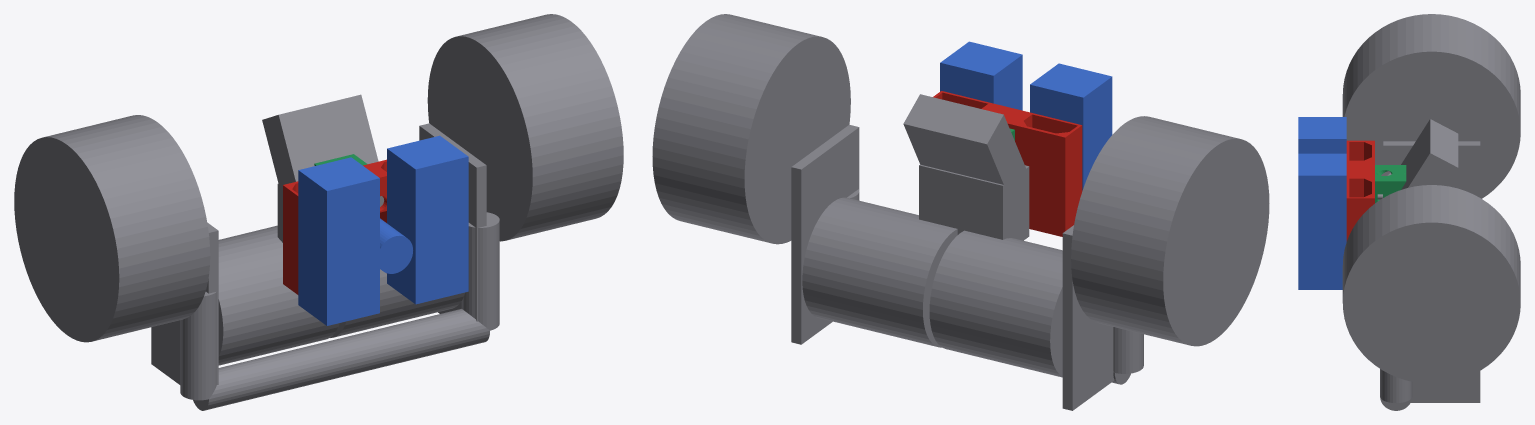
File: rear_assembly_r4.obj
3 renders of one model, left to right at view 1: azimuth 30°, elevation 25°; view 2: azimuth 150°, elevation 25°; view 3: azimuth 270°, elevation 25°, orthographic. The views are drawn at different scales.
Visible parts, largest first — view 1: wheels_schematic, bar_c_schematic, light_placeholder_1, motors_schematic, light_placeholder_0, rear_hanger_schematic, light_bar, charging_plug_column; view 2: wheels_schematic, motors_schematic, rear_hanger_schematic, light_bar, light_placeholder_1, light_placeholder_0, bar_c_schematic; view 3: wheels_schematic, light_placeholder_0, rear_hanger_schematic, light_bar, light_placeholder_1, bar_c_schematic, shoe.
Part boxes in pixels (bbox=[...]): wheels_schematic: bbox=[14, 14, 623, 342]; bar_c_schematic: bbox=[180, 212, 499, 410]; light_placeholder_1: bbox=[298, 157, 379, 325]; motors_schematic: bbox=[218, 225, 465, 365]; light_placeholder_0: bbox=[387, 135, 468, 304]; rear_hanger_schematic: bbox=[151, 94, 486, 384]; light_bar: bbox=[283, 159, 386, 294]; charging_plug_column: bbox=[380, 218, 412, 273]; wheels_schematic: bbox=[652, 14, 1269, 346]; motors_schematic: bbox=[802, 197, 1062, 377]; rear_hanger_schematic: bbox=[791, 94, 1114, 410]; light_bar: bbox=[933, 91, 1082, 236]; light_placeholder_1: bbox=[1030, 63, 1112, 190]; light_placeholder_0: bbox=[940, 41, 1022, 110]; bar_c_schematic: bbox=[847, 189, 1143, 384]; wheels_schematic: bbox=[1342, 14, 1520, 383]; light_placeholder_0: bbox=[1298, 153, 1346, 289]; rear_hanger_schematic: bbox=[1383, 119, 1480, 402]; light_bar: bbox=[1346, 140, 1374, 241]; light_placeholder_1: bbox=[1298, 117, 1346, 153]; bar_c_schematic: bbox=[1380, 369, 1412, 410]; shoe: bbox=[1375, 165, 1406, 202].
Size of the model in its own units: 305 by 160 by 138.
